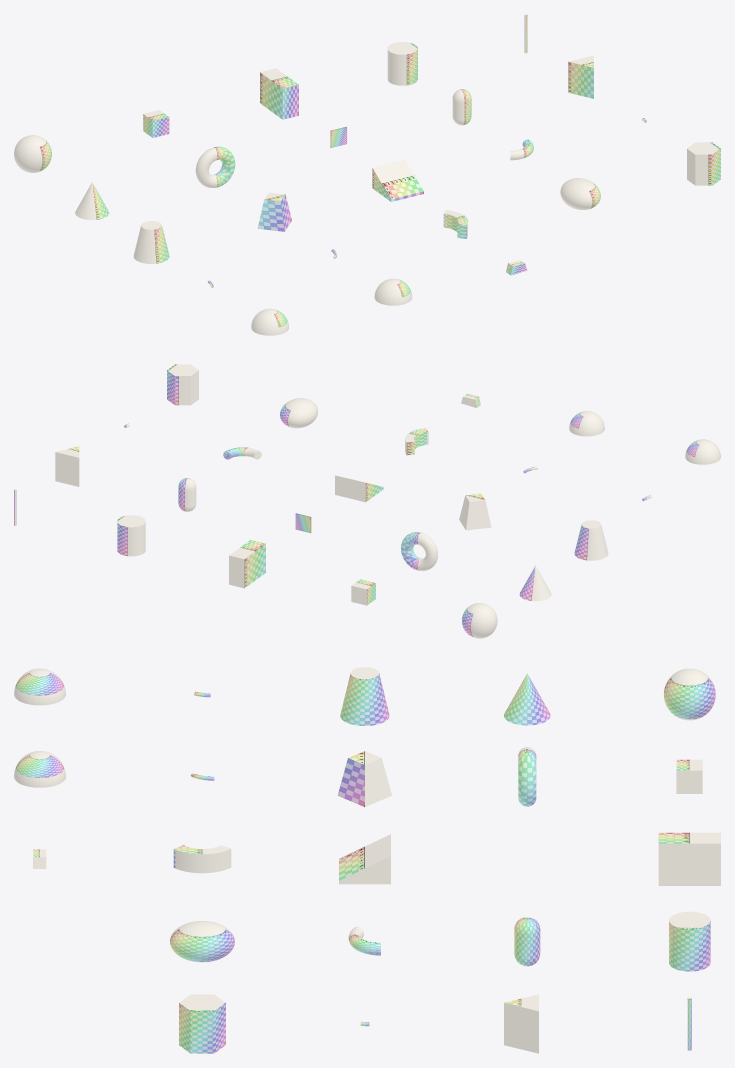
The model's file is xreate_uv_checker_all_shapes.glb.
The picture shows the model from 3 angles, top to bottom: view 1: azimuth 30°, elevation 25°; view 2: azimuth 150°, elevation 25°; view 3: azimuth 270°, elevation 25°; orthographic projection. The views are drawn at different scales.
Visible parts, largest first — view 1: Box, Wedge, Hex Prism, Cylinder, Frustum, Torus, Sphere, Ellipsoid, Pyr Frustum, Tri Prism, Hemi Open, Dome (+4 smaller); view 2: Box, Hex Prism, Cylinder, Frustum, Torus, Sphere, Ellipsoid, Pyr Frustum, Tri Prism, Wedge, Hemi Open, Dome (+4 smaller); view 3: Box, Hex Prism, Cylinder, Frustum, Sphere, Ellipsoid, Pyr Frustum, Wedge, Tri Prism, Dome, Hemi Open, Curved Box (+4 smaller).
Boxes of the visible parts, x1,y1,x2,y2 form: Box: [260, 68, 298, 119]; Wedge: [372, 159, 423, 201]; Hex Prism: [687, 142, 720, 185]; Cylinder: [387, 42, 417, 85]; Frustum: [133, 221, 169, 263]; Torus: [195, 146, 235, 187]; Sphere: [14, 135, 51, 172]; Ellipsoid: [560, 178, 600, 209]; Pyr Frustum: [257, 192, 291, 231]; Tri Prism: [568, 55, 593, 98]; Hemi Open: [374, 278, 412, 305]; Dome: [251, 308, 288, 335]; Box: [229, 540, 265, 588]; Hex Prism: [167, 364, 198, 405]; Cylinder: [117, 515, 145, 556]; Frustum: [574, 520, 608, 560]; Torus: [401, 532, 437, 570]; Sphere: [462, 603, 497, 638]; Ellipsoid: [280, 398, 317, 428]; Pyr Frustum: [459, 493, 491, 530]; Tri Prism: [55, 446, 79, 486]; Wedge: [335, 475, 383, 502]; Hemi Open: [569, 411, 604, 436]; Dome: [685, 439, 720, 464]; Box: [658, 832, 720, 885]; Hex Prism: [179, 994, 225, 1053]; Cylinder: [669, 911, 710, 971]; Frustum: [340, 667, 389, 725]; Sphere: [663, 668, 715, 720]; Ellipsoid: [170, 921, 234, 962]; Pyr Frustum: [337, 751, 391, 806]; Wedge: [339, 834, 390, 884]; Tri Prism: [504, 994, 538, 1053]; Dome: [14, 668, 65, 705]; Hemi Open: [14, 751, 65, 787]; Curved Box: [173, 845, 231, 873].
Bounding box in the file's own units: 0.95 × 0.0688 × 0.8131.
23 materials, 23 textured.
